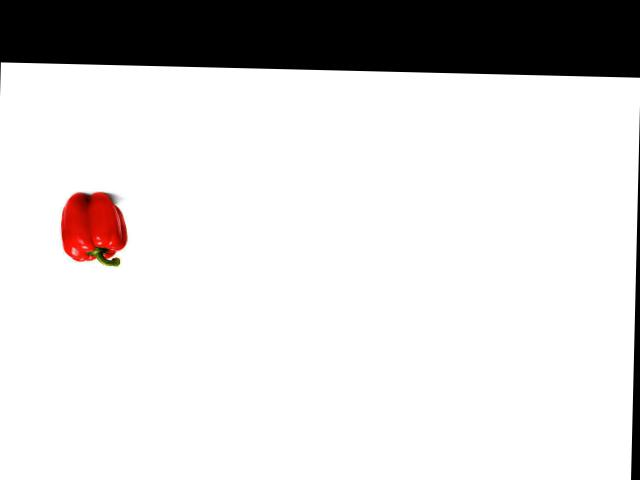bell_pepper: (58, 190, 128, 267)
